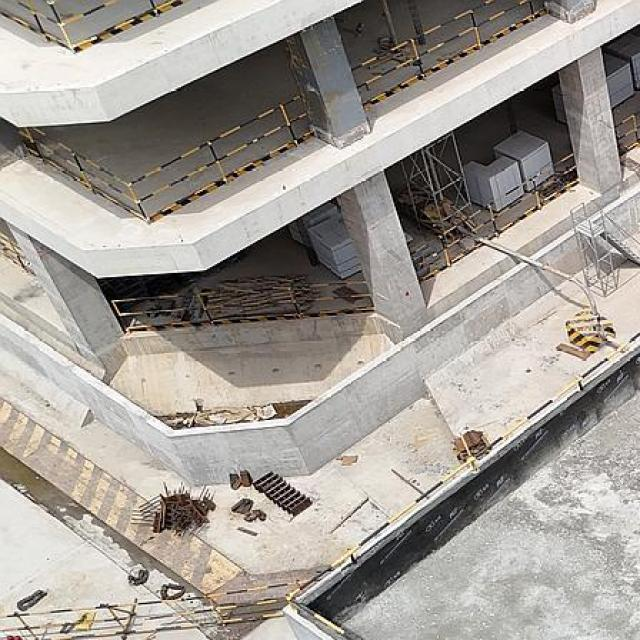edge_guardrail: (283, 330, 640, 640), (18, 95, 308, 221), (350, 0, 535, 91), (437, 152, 577, 268), (110, 280, 371, 330), (0, 0, 177, 50), (614, 113, 640, 141)
